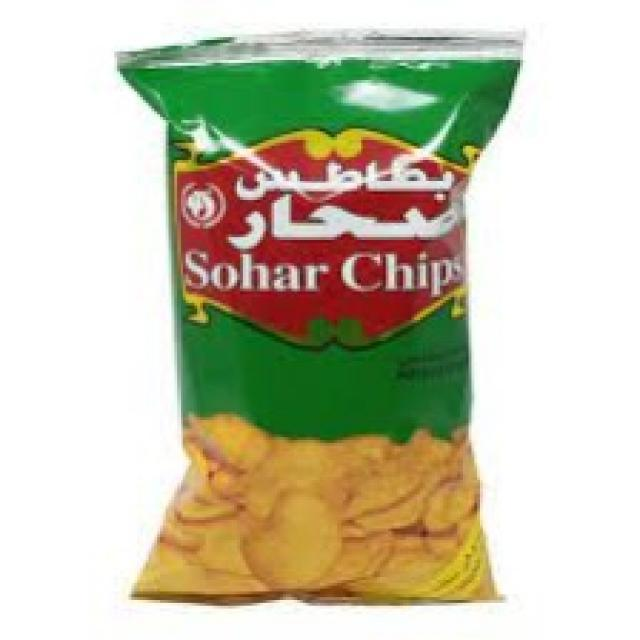plastic_bottle: (103, 29, 528, 624)
